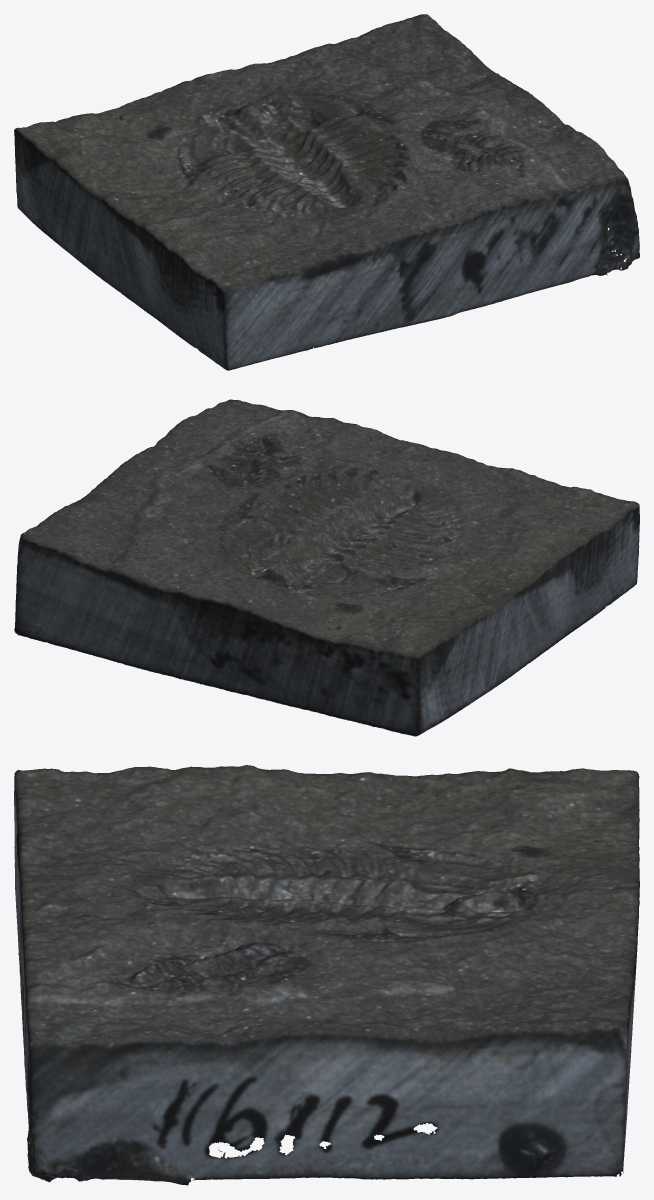
File: trilobite.glb
The picture shows the model from 3 angles, top to bottom: view 1: azimuth 30°, elevation 25°; view 2: azimuth 150°, elevation 25°; view 3: azimuth 270°, elevation 25°; orthographic projection. The views are drawn at different scales.
Size of the model in its own units: 24.47 by 6.37 by 21.5.
Materials: 1 (1 with a texture image).
